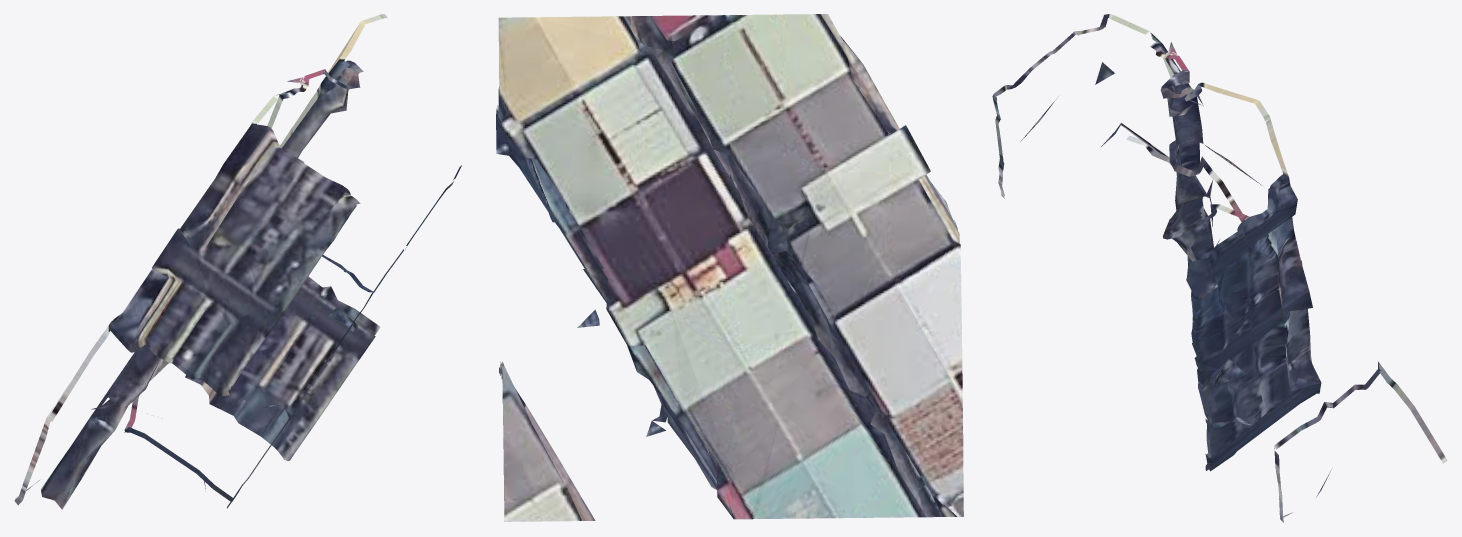
The picture shows the model from 3 angles, left to right: view 1: azimuth 30°, elevation 25°; view 2: azimuth 150°, elevation 25°; view 3: azimuth 270°, elevation 25°; orthographic projection. The views are drawn at different scales.
Size of the model in its own units: 42.24 by 39.98 by 36.42.
Materials: 2 (2 with a texture image).
